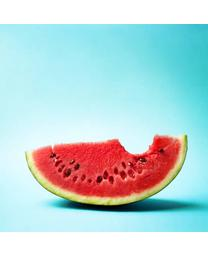watermelon: (23, 132, 189, 211)
